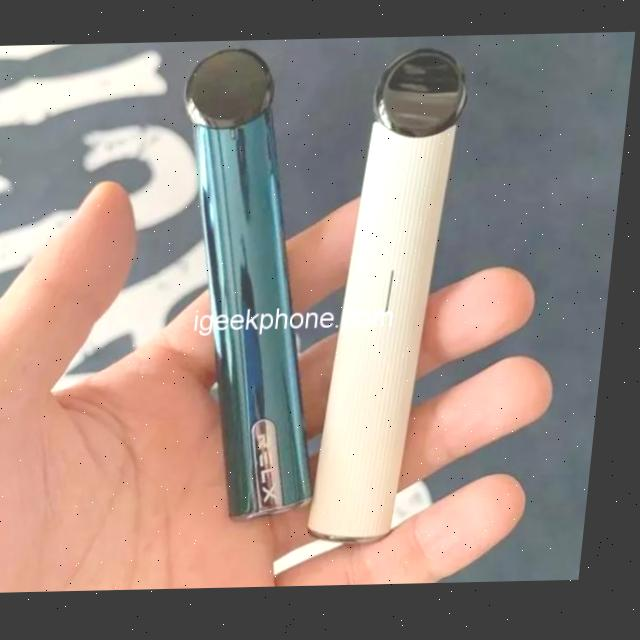vape: (152, 45, 353, 522), (320, 48, 472, 543)
